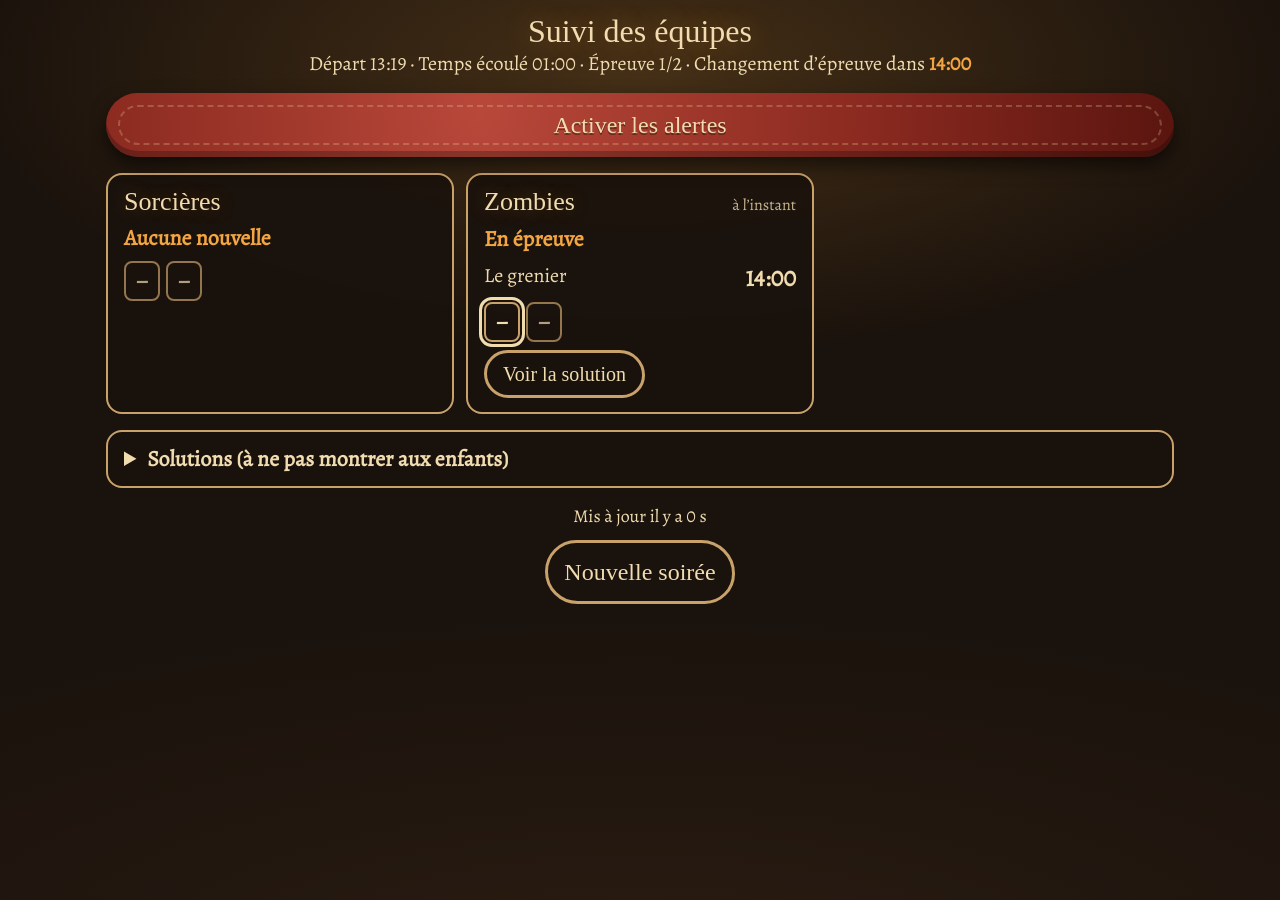
Test: BoardScreen › goes back to the code when the database refuses the erase
This screenshot has width=1280, height=900.
Expected: the text "En épreuve" is shown, [484,224,584,254]
Click the button "Nouvelle soirée": (640, 572) [545,540,735,604]
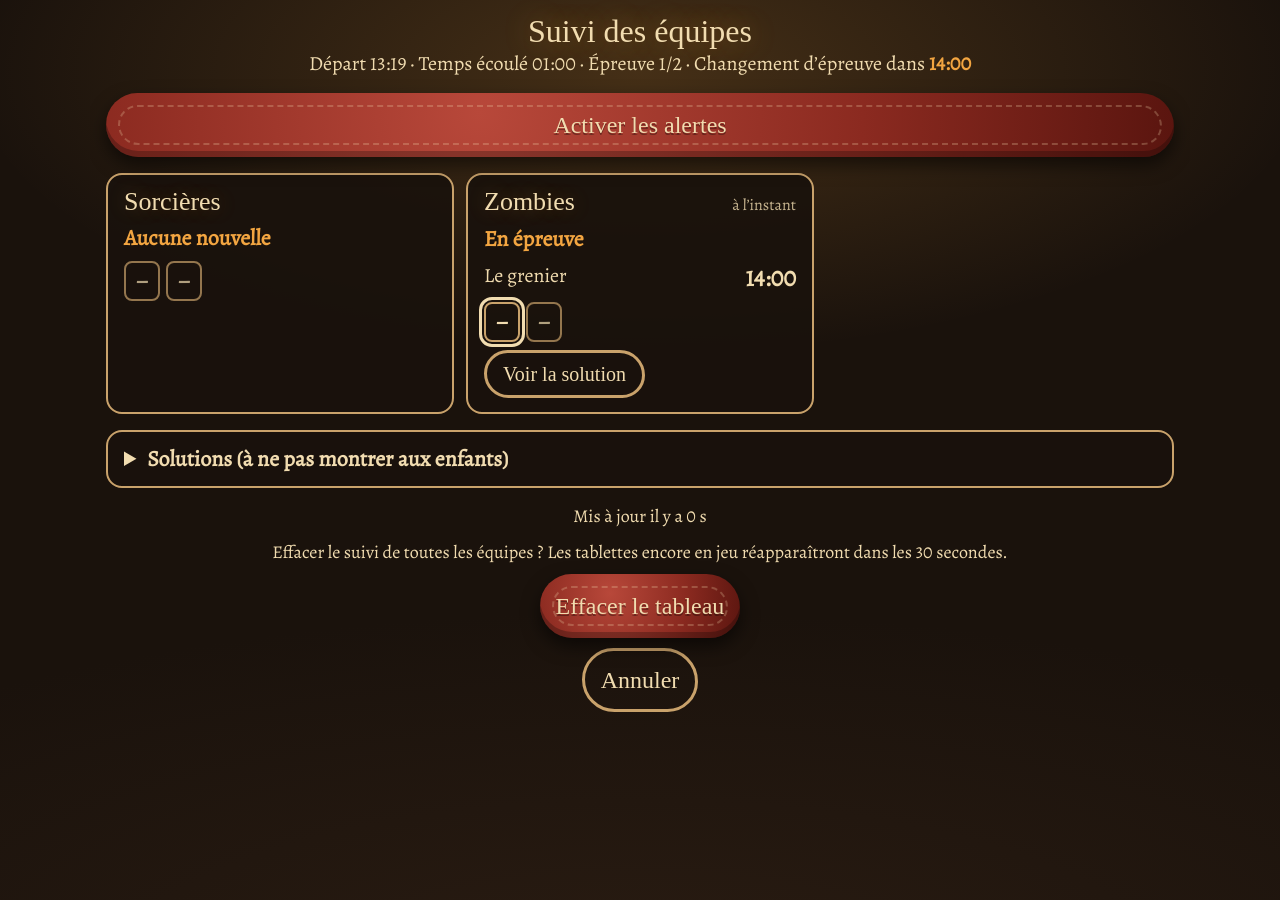
Click the button "Effacer le tableau": (640, 606) [540,574,740,638]
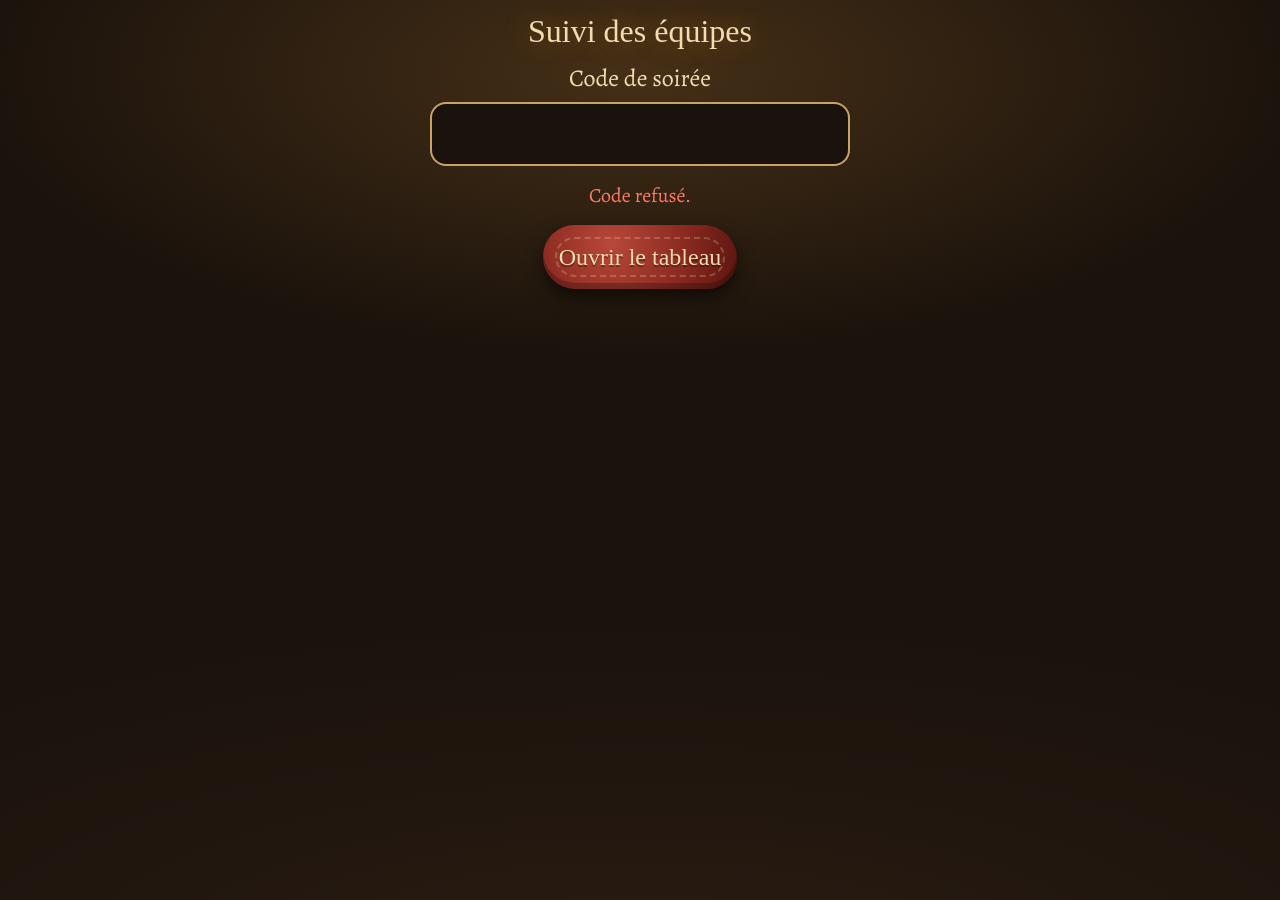
Now the text "Code refusé." is shown, box [589,182,691,209]
